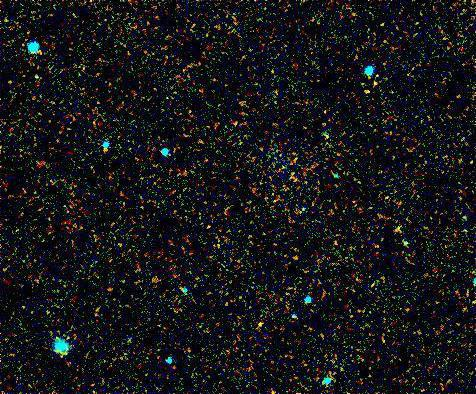star: (244, 308, 274, 338)
